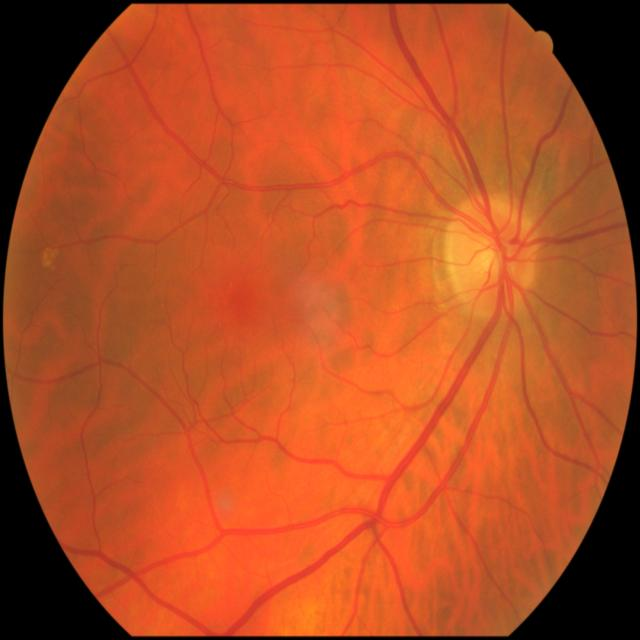OC: (481, 246, 501, 273)
OD: (446, 196, 541, 318)
